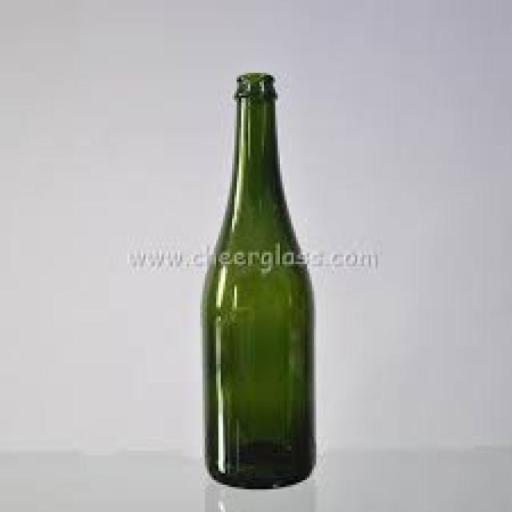glass: (176, 73, 330, 498)
